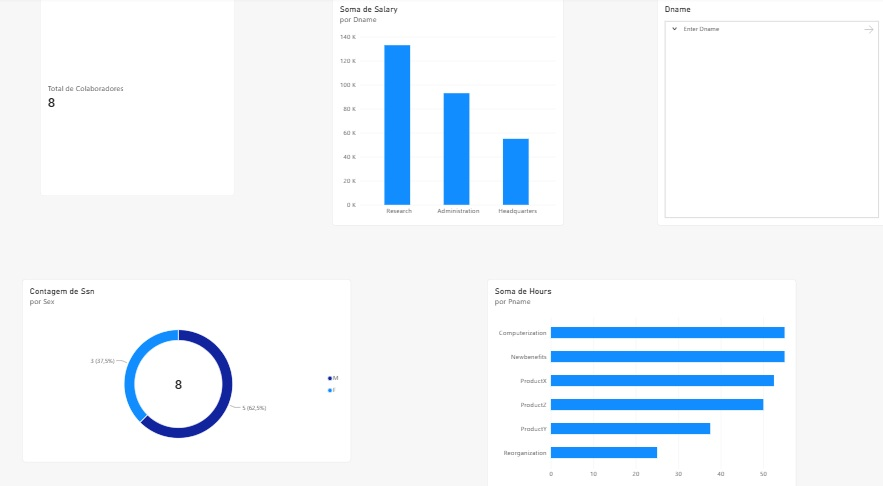

What the dashboard file says about the page in this screenshot:
{"tool":"powerbi","page":{"name":"Página 1","canvas":[1920,1080],"ordinal":0},"visuals":[{"type":"cardVisual","fields":{"Data":["Count(employee.Ssn)"]},"box":[90.7,0,420.8,430.9],"z":0},{"type":"clusteredColumnChart","fields":{"Category":["department.Dname"],"Y":["Sum(employee.Salary)"]},"box":[720.6,0,501.4,493.9],"z":1},{"type":"donutChart","fields":{"Category":["employee.Sex"],"Y":["Count(employee.Ssn)"]},"box":[52.9,609.8,710.6,395.6],"z":2},{"type":"barChart","fields":{"Category":["project.Pname"],"Y":["Sum(works_on.Hours)"]},"box":[1055.7,609.8,667.7,453.5],"z":3},{"type":"textSlicer","fields":{"Values":["department.Dname"]},"box":[1423.6,0,496.4,493.9],"z":4}]}

Visuals, with their boxes in screenshot pixels (x1, y1, x2, y2), scaled from the page's 1920x1080 canvas onto the 883x486 screenshot:
cardVisual - Count(employee.Ssn): (42, 0, 235, 194)
clusteredColumnChart - department.Dname x Sum(employee.Salary): (331, 0, 562, 222)
donutChart - employee.Sex x Count(employee.Ssn): (24, 274, 351, 452)
barChart - project.Pname x Sum(works_on.Hours): (486, 274, 793, 478)
textSlicer - department.Dname: (655, 0, 882, 222)
